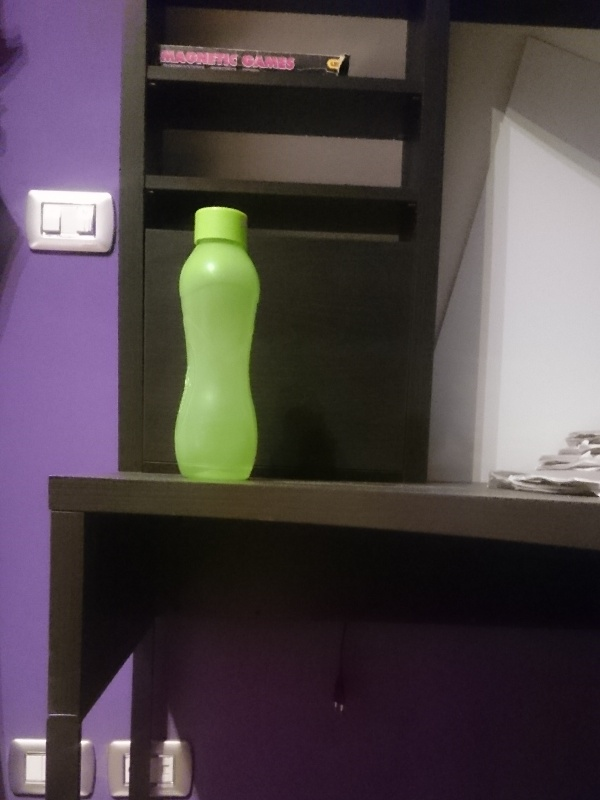my bottle: (172, 206, 260, 486)
